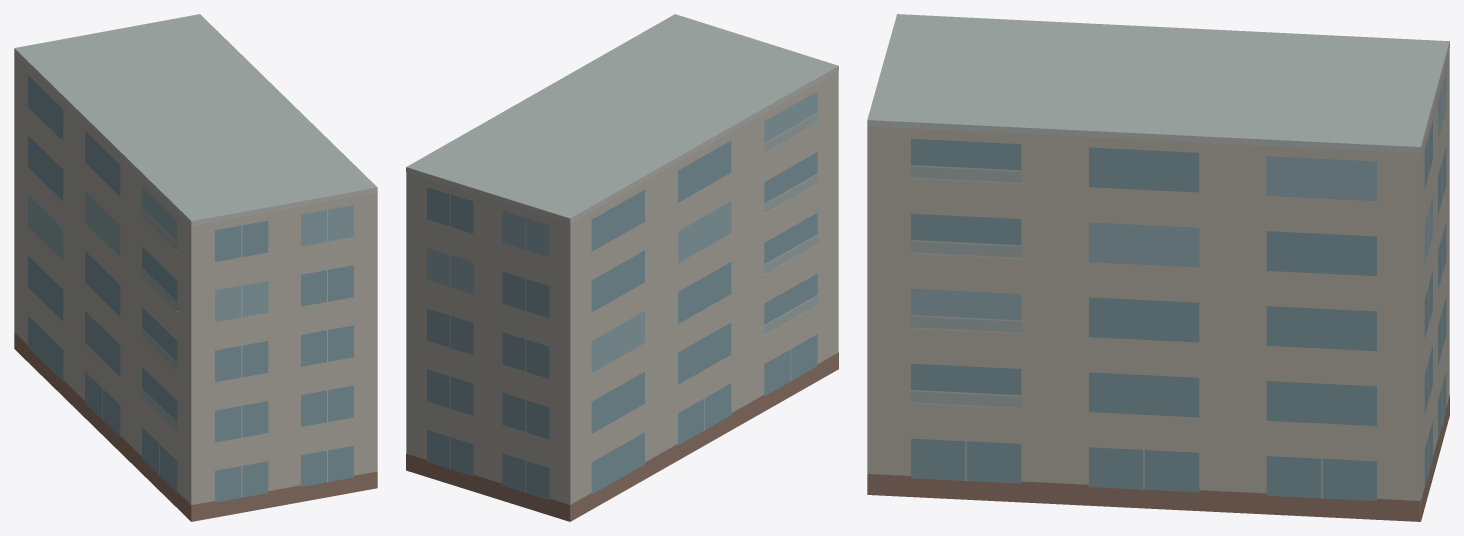
The model's file is survey-upis-33010513.glb.
3 views of the same model, side by side, from view 1: azimuth 30°, elevation 25°; view 2: azimuth 150°, elevation 25°; view 3: azimuth 270°, elevation 25° (orthographic). The views are drawn at different scales.
Parts seen in each view (by area): view 1: survey-upis-33010513.tmp; view 2: survey-upis-33010513.tmp; view 3: survey-upis-33010513.tmp.
Part boxes in pixels (<box>): survey-upis-33010513.tmp: <box>14,14,377,521</box>; survey-upis-33010513.tmp: <box>406,14,838,521</box>; survey-upis-33010513.tmp: <box>867,14,1449,521</box>.
Size of the model in its own units: 11.13 by 14.6 by 20.58.
